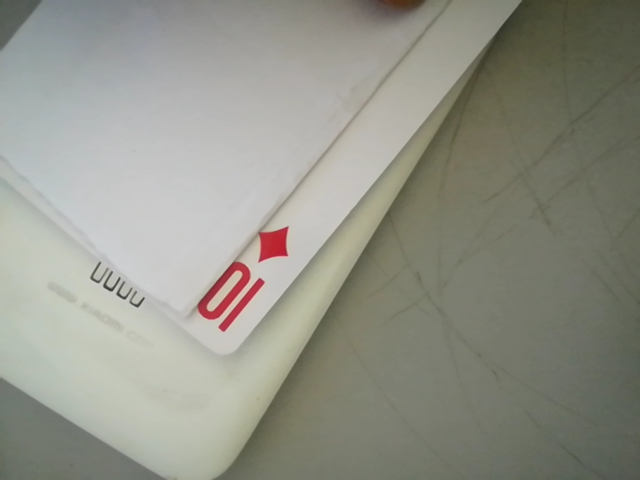fk 10: (186, 220, 306, 350)
